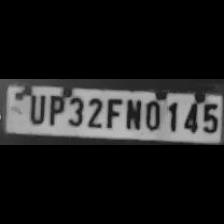0: (142, 96, 162, 132)
1: (162, 98, 180, 134)
2: (84, 95, 104, 129)
3: (64, 94, 84, 128)
4: (180, 98, 200, 134)
5: (198, 99, 218, 135)
F: (104, 96, 122, 130)
N: (122, 96, 142, 132)
P: (45, 92, 63, 126)
U: (24, 92, 46, 125)
